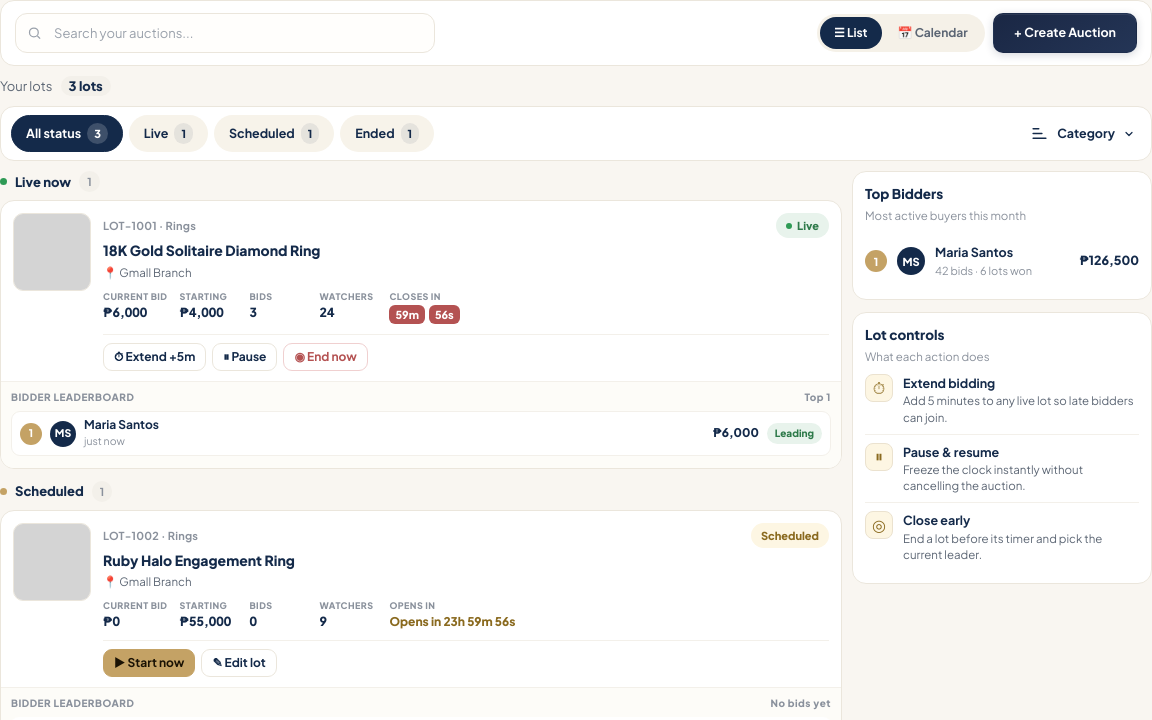
empty states correct when no match
The width and height of the screenshot is (1152, 720).
Check: the text "18K Gold Solitaire Diamond Ring" is shown, box [103, 241, 320, 259]
Type "ZZZ_NO_MATCH" into the field with placeholder "Search your auctions...". click: (225,33)
box: [15, 13, 435, 53]
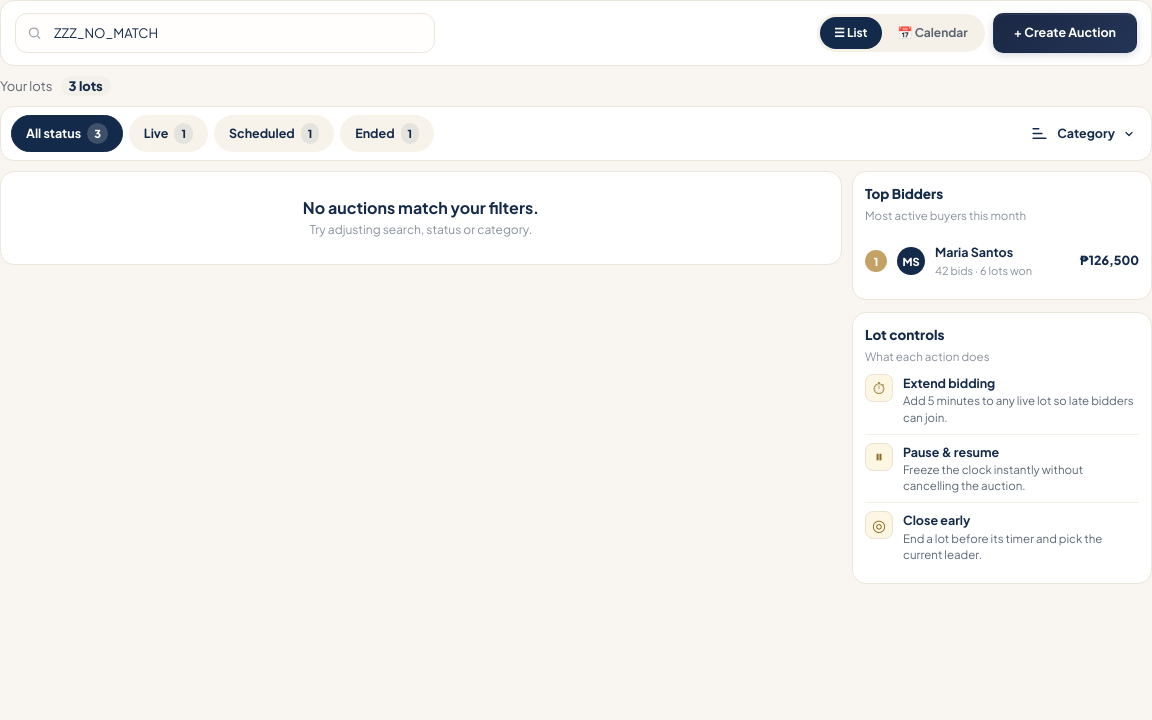
Check: the text "No auctions match your filters." is shown, box [303, 197, 539, 218]
